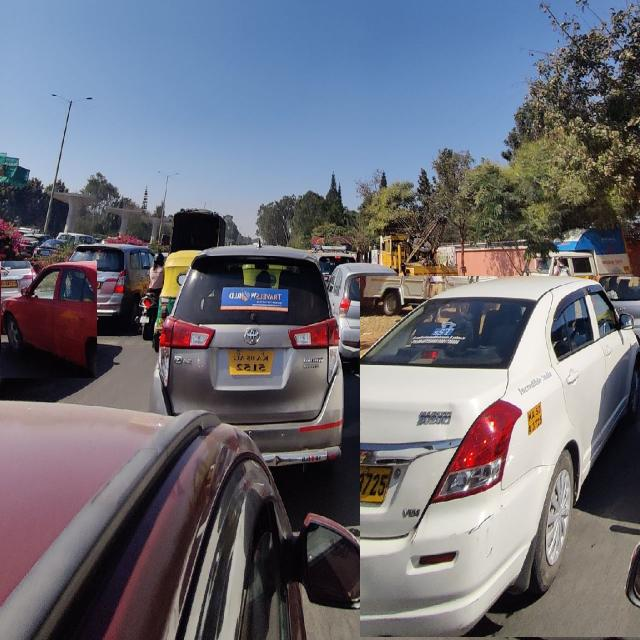autorickshaw: (152, 250, 199, 349)
car: (360, 276, 640, 637), (156, 247, 344, 464), (1, 262, 96, 378), (62, 243, 154, 326), (328, 263, 399, 360)
